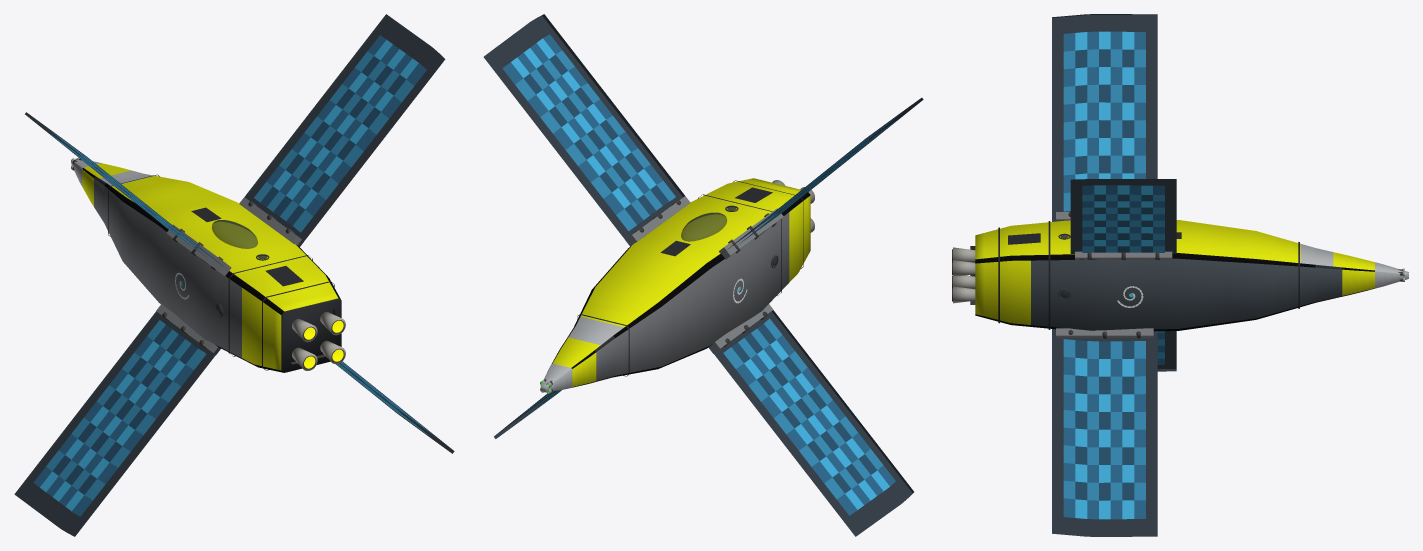
File: Ship_Crosspanel_16.glb
3 views of the same model, side by side, from view 1: azimuth 30°, elevation 25°; view 2: azimuth 150°, elevation 25°; view 3: azimuth 270°, elevation 25° (orthographic). The views are drawn at different scales.
Visible parts, largest first — view 1: Fuselage_SquareBody, SolarPanelWing_TopRightRidge_RectangularPhotovoltaicGrid, SolarPanelWing_LowerLeftRidge_RectangularPhotovoltaicGrid, Nose_SquareTaperedForwardSection, SolarPanelWing_TopLeftRidge_RectangularPhotovoltaicGrid, Canopy_DorsalLowSquareBubble, SolarPanelWing_LowerRightRidge_RectangularPhotovoltaicGrid, SolarPanelWing_TopLeftRidge_RootHingeClamp, SolarPanelWing_TopRightRidge_RootHingeClamp, SolarPanelWing_LowerLeftRidge_RootHingeClamp; view 2: Fuselage_SquareBody, SolarPanelWing_TopRightRidge_RectangularPhotovoltaicGrid, SolarPanelWing_LowerLeftRidge_RectangularPhotovoltaicGrid, Nose_SquareTaperedForwardSection, SolarPanelWing_TopLeftRidge_RectangularPhotovoltaicGrid, Canopy_DorsalLowSquareBubble, SolarPanelWing_TopLeftRidge_RootHingeClamp, SolarPanelWing_TopRightRidge_RootHingeClamp, SolarPanelWing_LowerLeftRidge_RootHingeClamp; view 3: Fuselage_SquareBody, SolarPanelWing_LowerRightRidge_RectangularPhotovoltaicGrid, SolarPanelWing_TopLeftRidge_RectangularPhotovoltaicGrid, SolarPanelWing_TopRightRidge_RectangularPhotovoltaicGrid, Nose_SquareTaperedForwardSection, SolarPanelWing_LowerRightRidge_RootHingeClamp, SolarPanelWing_LowerLeftRidge_RectangularPhotovoltaicGrid, SolarPanelWing_TopRightRidge_RootHingeClamp.
Boxes of the visible parts, left/top/right/bottom form: Fuselage_SquareBody: left=104, top=174, right=341, bottom=372; SolarPanelWing_TopRightRidge_RectangularPhotovoltaicGrid: left=245, top=14, right=445, bottom=247; SolarPanelWing_LowerLeftRidge_RectangularPhotovoltaicGrid: left=14, top=311, right=220, bottom=536; Nose_SquareTaperedForwardSection: left=71, top=158, right=143, bottom=222; SolarPanelWing_TopLeftRidge_RectangularPhotovoltaicGrid: left=25, top=112, right=227, bottom=269; Canopy_DorsalLowSquareBubble: left=212, top=220, right=257, bottom=248; SolarPanelWing_LowerRightRidge_RectangularPhotovoltaicGrid: left=336, top=361, right=454, bottom=453; SolarPanelWing_TopLeftRidge_RootHingeClamp: left=166, top=224, right=231, bottom=275; SolarPanelWing_TopRightRidge_RootHingeClamp: left=239, top=197, right=303, bottom=245; SolarPanelWing_LowerLeftRidge_RootHingeClamp: left=156, top=304, right=220, bottom=354; Fuselage_SquareBody: left=574, top=178, right=810, bottom=377; SolarPanelWing_TopRightRidge_RectangularPhotovoltaicGrid: left=483, top=14, right=684, bottom=246; SolarPanelWing_LowerLeftRidge_RectangularPhotovoltaicGrid: left=709, top=310, right=913, bottom=536; Nose_SquareTaperedForwardSection: left=540, top=326, right=615, bottom=392; SolarPanelWing_TopLeftRidge_RectangularPhotovoltaicGrid: left=722, top=97, right=923, bottom=253; Canopy_DorsalLowSquareBubble: left=681, top=212, right=727, bottom=241; SolarPanelWing_TopLeftRidge_RootHingeClamp: left=719, top=208, right=783, bottom=259; SolarPanelWing_TopRightRidge_RootHingeClamp: left=625, top=196, right=690, bottom=244; SolarPanelWing_LowerLeftRidge_RootHingeClamp: left=709, top=304, right=773, bottom=353; Fuselage_SquareBody: left=975, top=220, right=1315, bottom=331; SolarPanelWing_LowerRightRidge_RectangularPhotovoltaicGrid: left=1052, top=329, right=1157, bottom=536; SolarPanelWing_TopLeftRidge_RectangularPhotovoltaicGrid: left=1052, top=14, right=1157, bottom=221; SolarPanelWing_TopRightRidge_RectangularPhotovoltaicGrid: left=1070, top=179, right=1176, bottom=253; Nose_SquareTaperedForwardSection: left=1315, top=248, right=1408, bottom=302; SolarPanelWing_LowerRightRidge_RootHingeClamp: left=1056, top=328, right=1153, bottom=337; SolarPanelWing_LowerLeftRidge_RectangularPhotovoltaicGrid: left=1157, top=331, right=1176, bottom=371; SolarPanelWing_TopRightRidge_RootHingeClamp: left=1075, top=251, right=1172, bottom=260.
Bounding box in the file's own units: 6.92 × 6.93 × 8.01.
